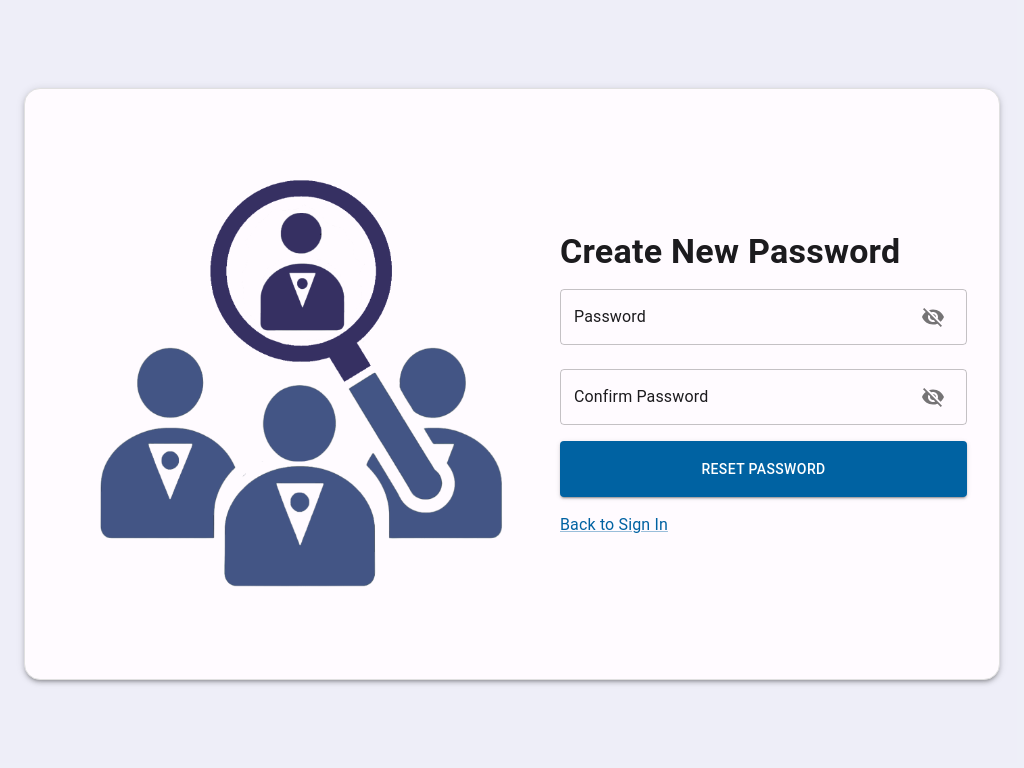
Test case: Reset Password Form Tests › should show validation messages for empty fields
Click the button "Reset Password": coordinates (764, 470) x1=560 y1=441 x2=967 y2=498
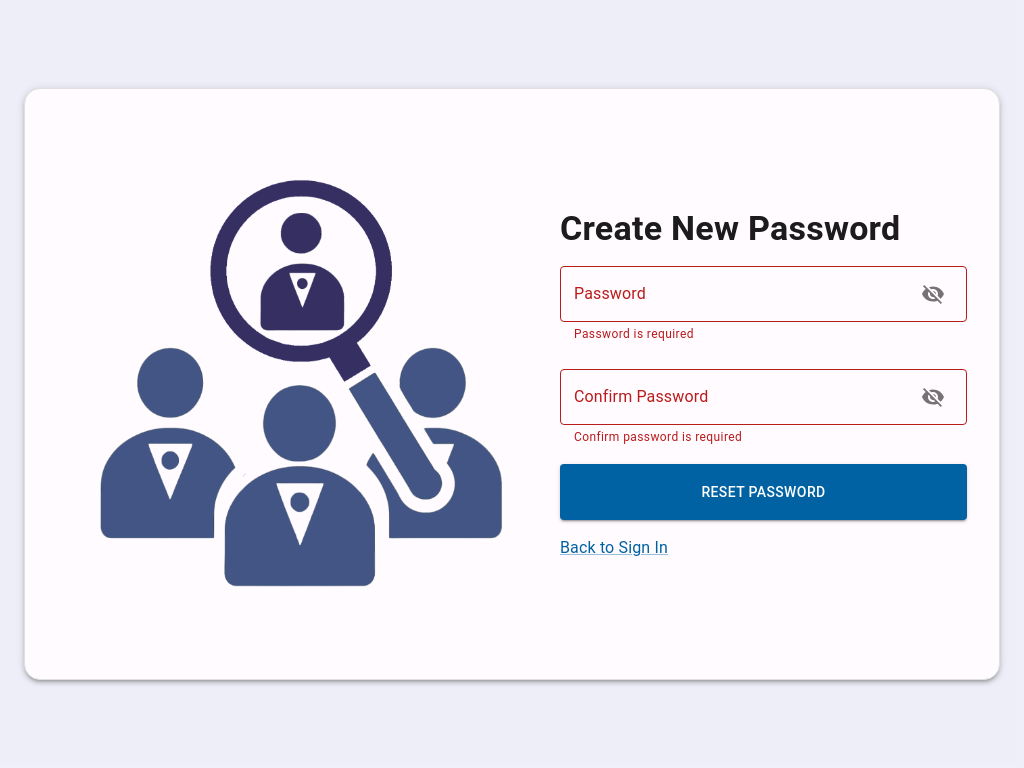
Check: the text "Password is required" is shown, box x1=574 y1=327 x2=694 y2=341
Check: the text "Confirm password is required" is shown, box x1=574 y1=430 x2=742 y2=444
